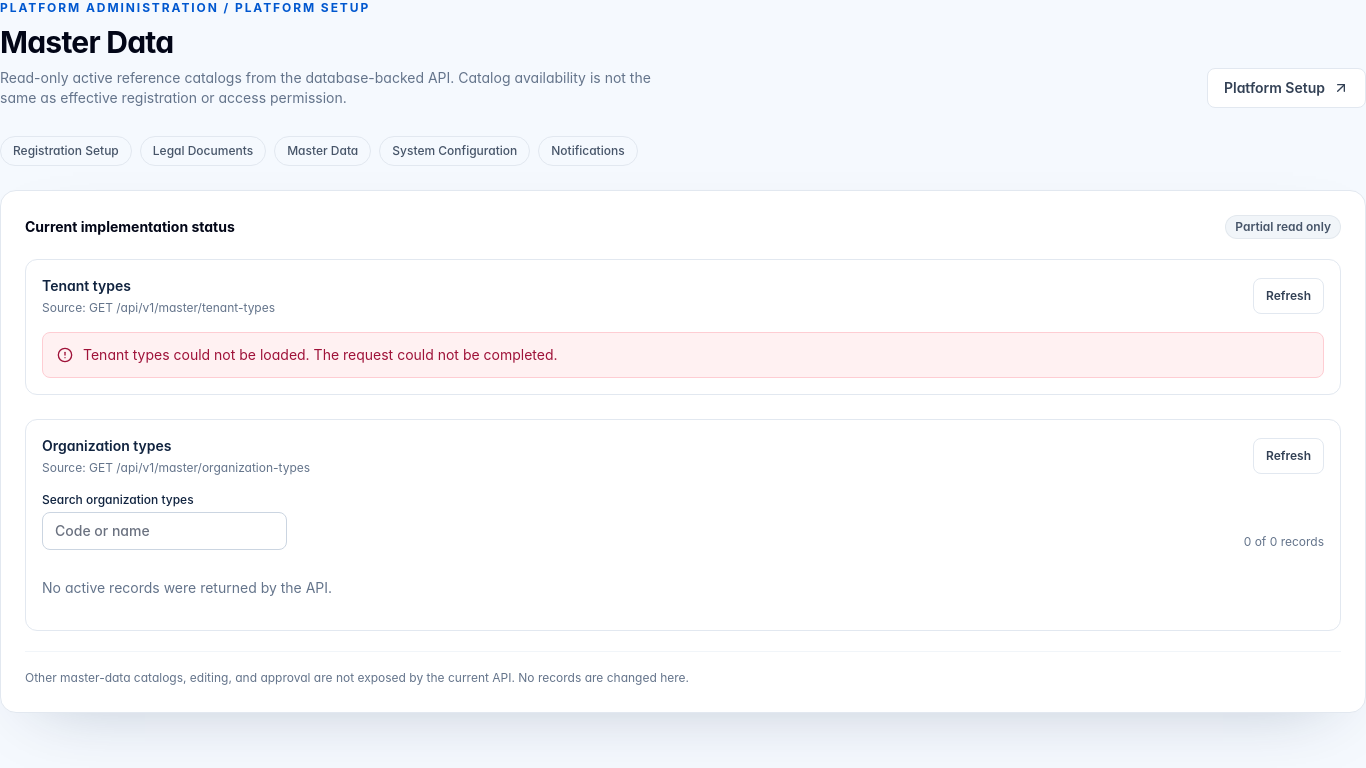
Test case: Platform Setup foundation › distinguishes a catalog error from an empty result and retries independently
Check: the text "Tenant types could not be loaded" is shown, box [83,345,558,365]
Check: the text "No active records were returned by the API." is shown, box [42,579,332,596]
Click the button "Refresh" in the row of "tenant-types": point(1288, 296) [1253,278,1324,314]
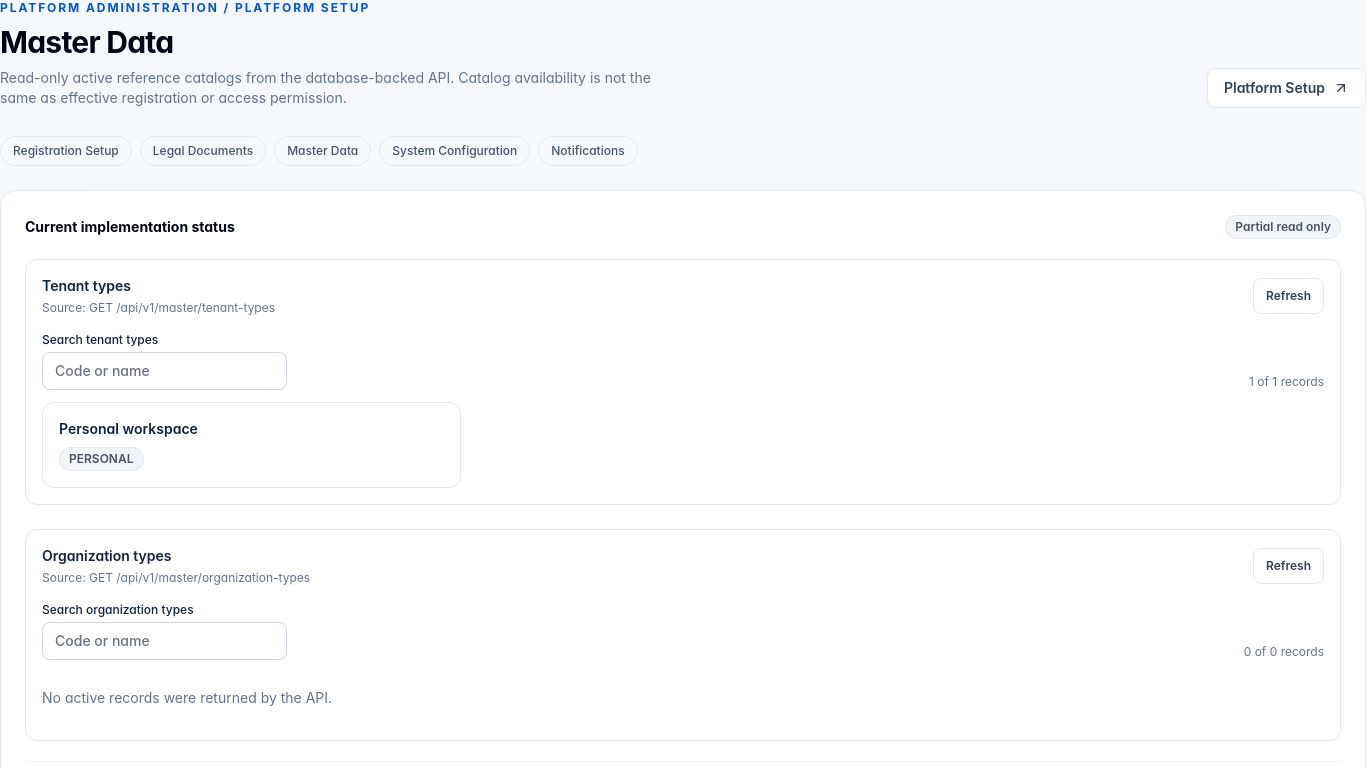
Check: the text "Personal workspace" is shown, box [59,420,198,437]
